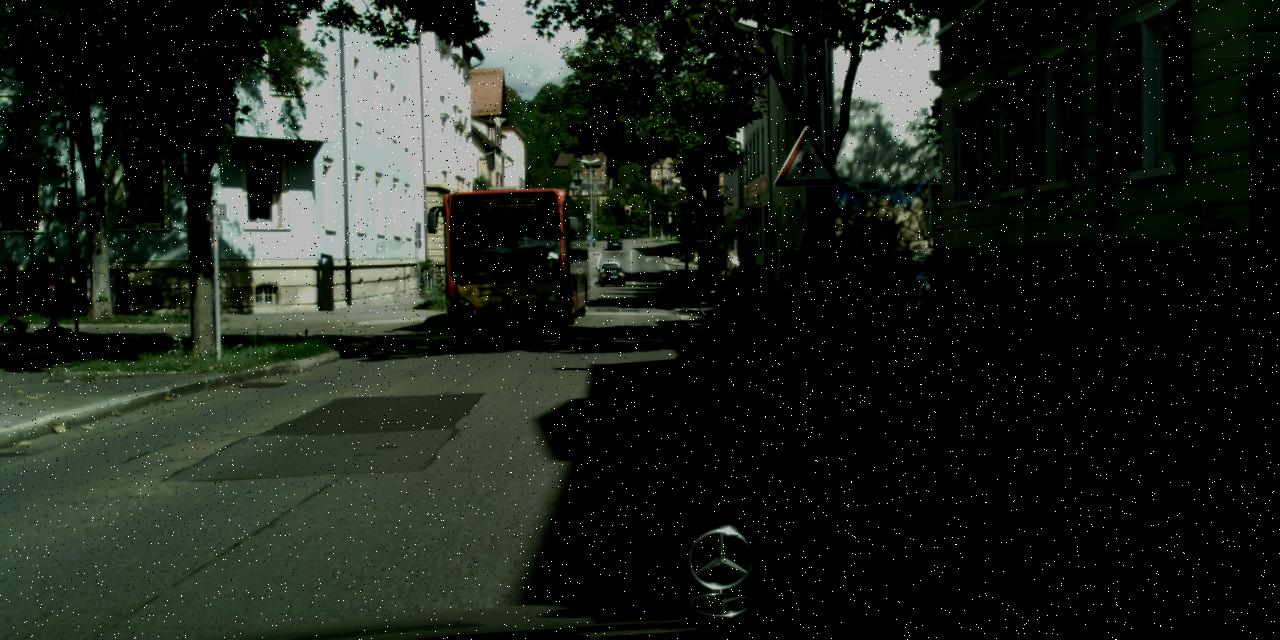ped: (920, 241, 951, 317), (860, 246, 890, 320), (892, 248, 919, 318), (720, 250, 746, 314)
